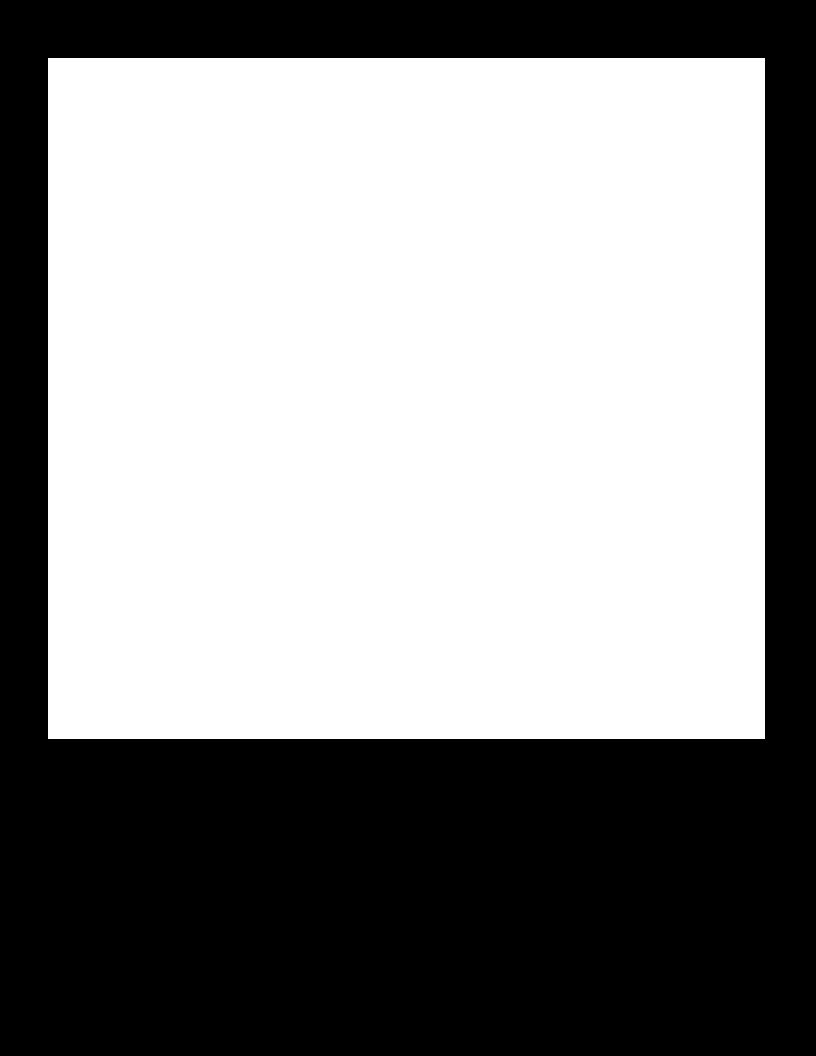table: (48, 58, 764, 738)
